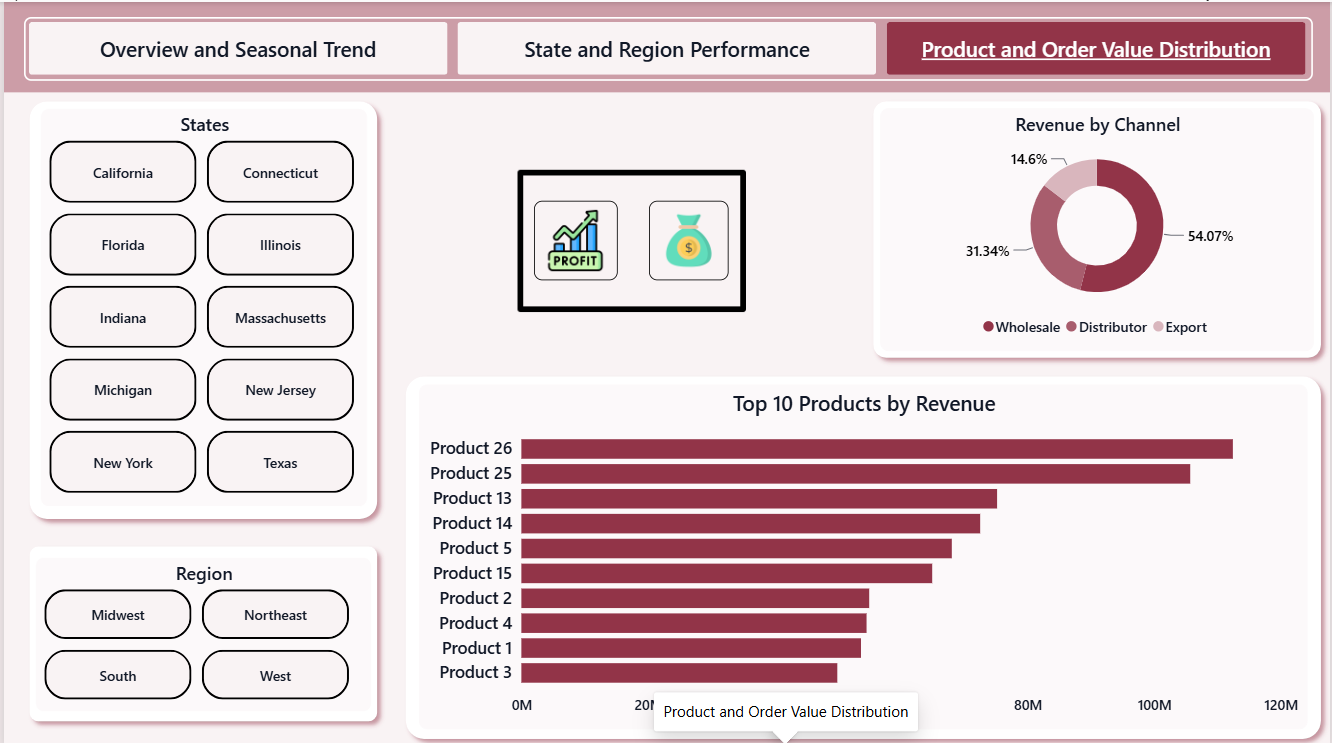

This screenshot's page, from the dashboard's own definition file:
{"tool":"powerbi","page":{"name":"Product and Order Value Distribution ","canvas":[1280,720],"ordinal":2},"visuals":[{"type":"shape","box":[378.8,352.3,901.2,368],"z":0},{"type":"clusteredBarChart","title":"Top 10 Products by Revenue ","fields":{"Category":["final.product_name"],"Y":["Sum(final.revenue)"]},"box":[400.5,369.2,857.8,333],"z":1000},{"type":"shape","box":[830,86.9,450,265.4],"z":2000},{"type":"donutChart","title":"Revenue by Channel","fields":{"Category":["final.channel"],"Y":["Sum(final.revenue)"]},"box":[845.7,102.5,418.6,234],"z":3000},{"type":"image","box":[425.4,113.6,360,234.6],"z":4000},{"type":"image","title":"PP","box":[511,191.8,80.7,77],"z":5000},{"type":"shape","box":[0,0,1280.3,86.8],"z":8000},{"type":"pageNavigator","box":[19.3,14.5,1243.8,61.5],"z":9000},{"type":"image","title":"PR","box":[622.7,191.8,77,77],"z":10000},{"type":"shape","box":[15.7,86.9,353.5,421],"z":11000},{"type":"advancedSlicerVisual","title":"States","fields":{"Values":["final.state_name"]},"box":[35,102.5,316.1,384.9],"z":12000},{"type":"shape","box":[15.7,516.4,353.5,187],"z":13000},{"type":"advancedSlicerVisual","title":"Region","fields":{"Values":["final.region"]},"box":[30.2,535.7,324.5,149.6],"z":14000}]}

Visuals, with their boxes in screenshot pixels (x1, y1, x2, y2), scaled from the page's 1280x720 canvas onto the 1332x743 screenshot:
shape: [x1=394, y1=364, x2=1331, y2=742]
"Top 10 Products by Revenue " clusteredBarChart: [x1=417, y1=381, x2=1309, y2=725]
shape: [x1=864, y1=90, x2=1331, y2=364]
"Revenue by Channel" donutChart: [x1=880, y1=106, x2=1316, y2=347]
image: [x1=443, y1=117, x2=817, y2=359]
"PP" image: [x1=532, y1=198, x2=616, y2=277]
shape: [x1=0, y1=0, x2=1331, y2=90]
pageNavigator: [x1=20, y1=15, x2=1314, y2=78]
"PR" image: [x1=648, y1=198, x2=728, y2=277]
shape: [x1=16, y1=90, x2=384, y2=524]
"States" advancedSlicerVisual: [x1=36, y1=106, x2=365, y2=503]
shape: [x1=16, y1=533, x2=384, y2=726]
"Region" advancedSlicerVisual: [x1=31, y1=553, x2=369, y2=707]
